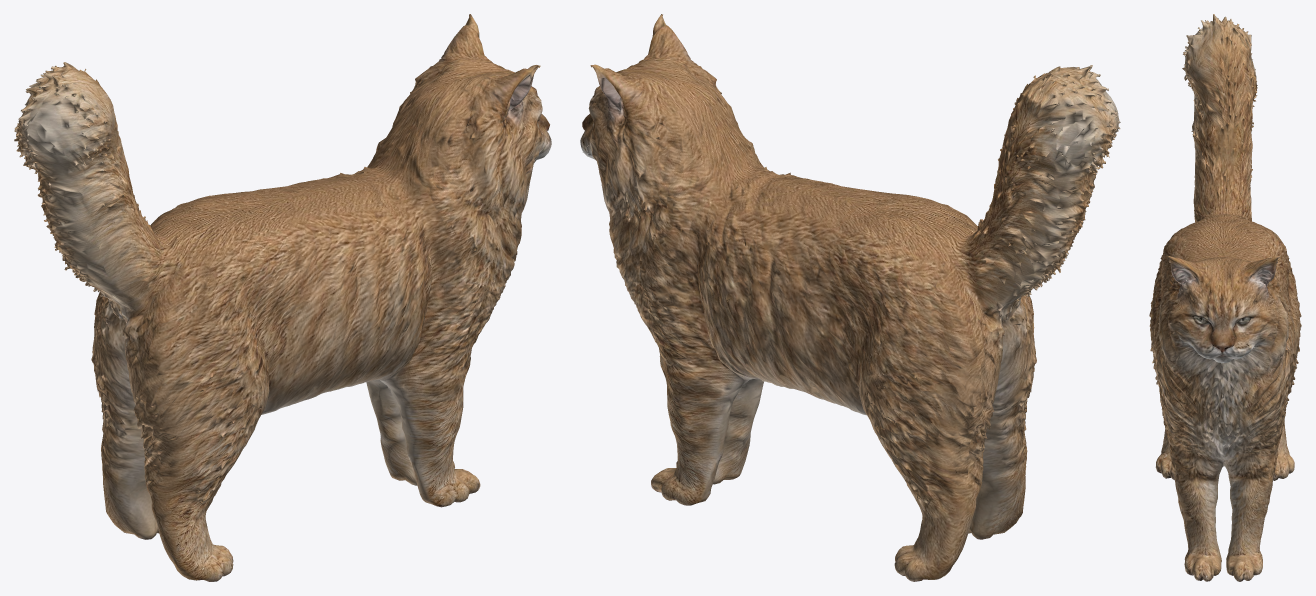
Rendered from SNACKSCAT.glb.
3 renders of one model, left to right at view 1: azimuth 30°, elevation 25°; view 2: azimuth 150°, elevation 25°; view 3: azimuth 270°, elevation 25°, orthographic. The views are drawn at different scales.
Parts seen in each view (by area): view 1: tripo_node_a05ec790-91dc-40cb-a248-bd2637aab71f; view 2: tripo_node_a05ec790-91dc-40cb-a248-bd2637aab71f; view 3: tripo_node_a05ec790-91dc-40cb-a248-bd2637aab71f.
Part boxes in pixels (box(x1,y1,x2,y2)): tripo_node_a05ec790-91dc-40cb-a248-bd2637aab71f: box(14, 14, 551, 581); tripo_node_a05ec790-91dc-40cb-a248-bd2637aab71f: box(580, 14, 1120, 581); tripo_node_a05ec790-91dc-40cb-a248-bd2637aab71f: box(1149, 14, 1301, 581).
Bounding box in the file's own units: 1.08 × 0.9996 × 0.336.
1 material, 1 textured.
